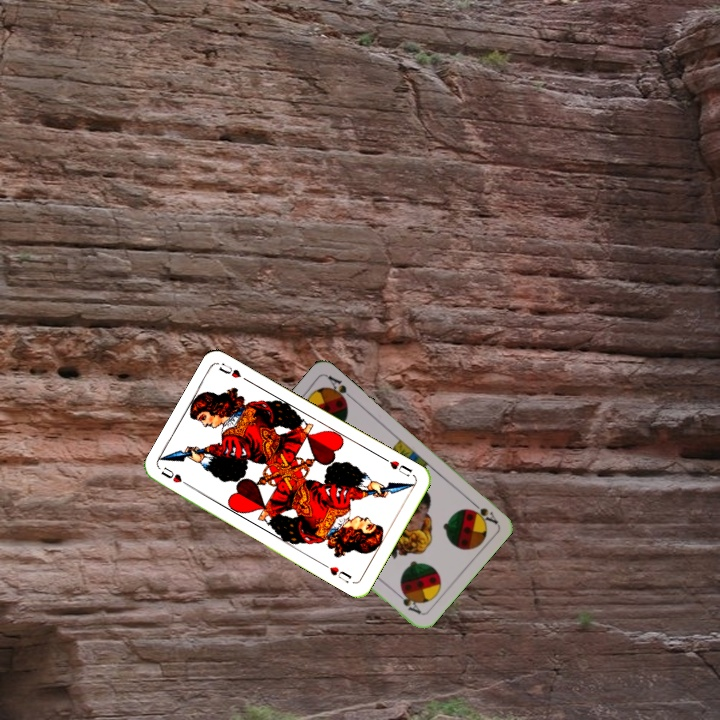HU: (157, 463, 194, 490), (380, 454, 415, 479)
SA: (465, 496, 500, 527)
